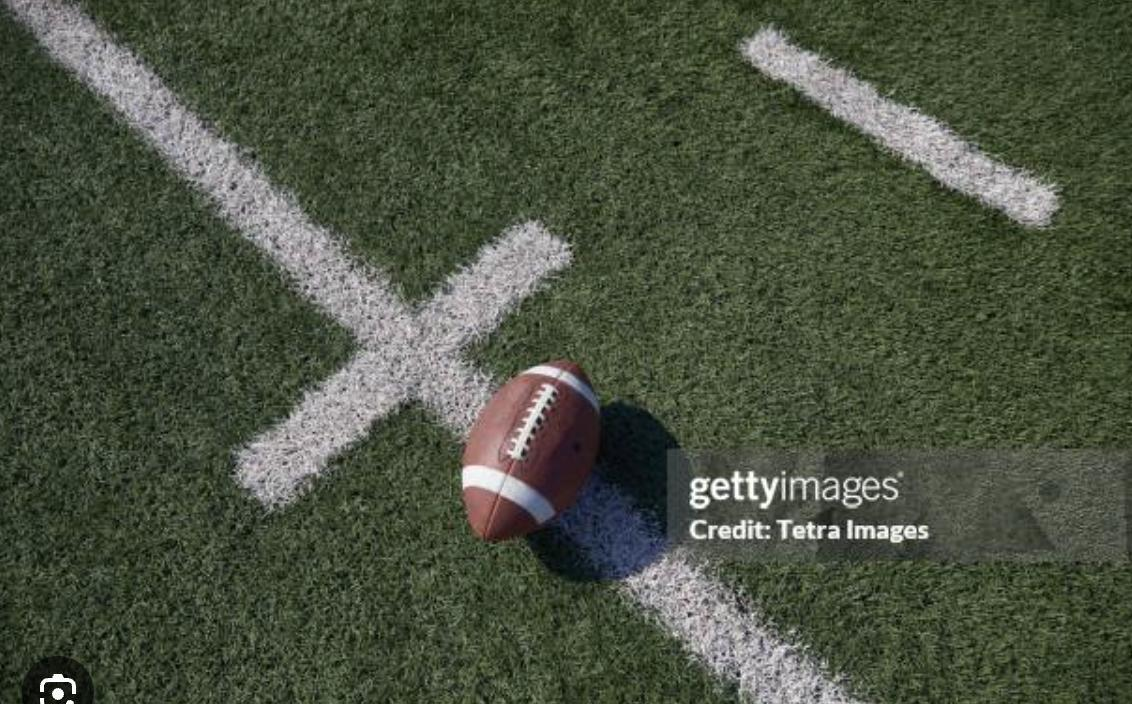Sports-Ball: (462, 360, 599, 542)
